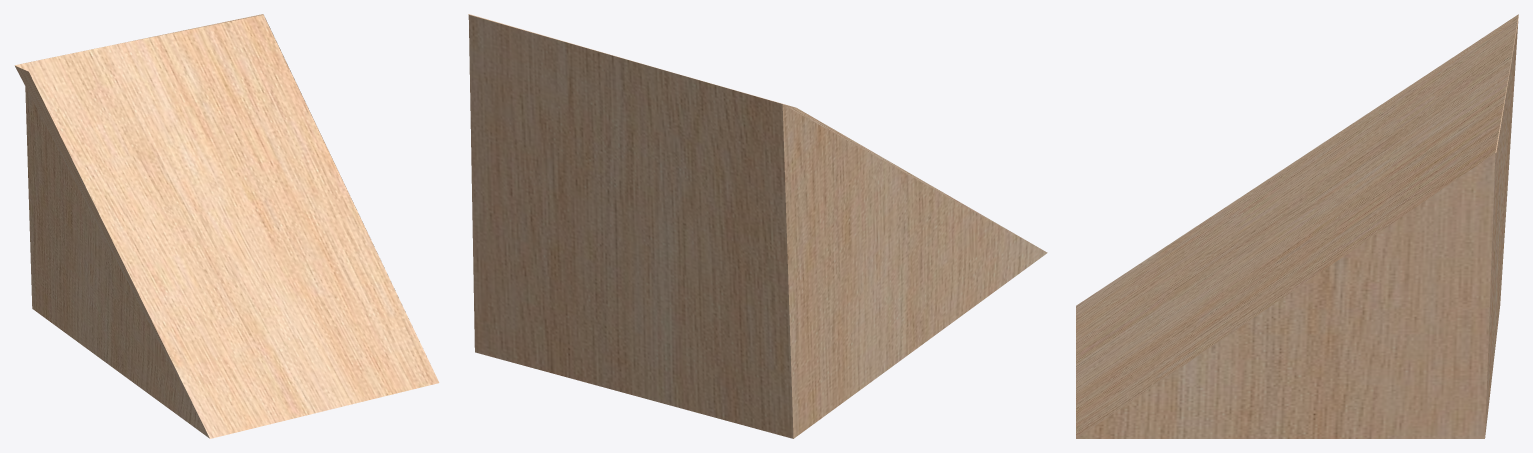
Rendered from WoodTriangle.fbx.
3 renders of one model, left to right at view 1: azimuth 30°, elevation 25°; view 2: azimuth 150°, elevation 25°; view 3: azimuth 270°, elevation 25°, orthographic. The views are drawn at different scales.
Visible parts, largest first — view 1: Cube; view 2: Cube; view 3: Cube.
Part boxes in pixels (box(x1,y1,x2,y2)): Cube: box(14, 14, 439, 438); Cube: box(468, 14, 1047, 438); Cube: box(1076, 14, 1518, 438).
Bounding box in the file's own units: 209 × 200 × 281.
Materials: 1 (1 with a texture image).
